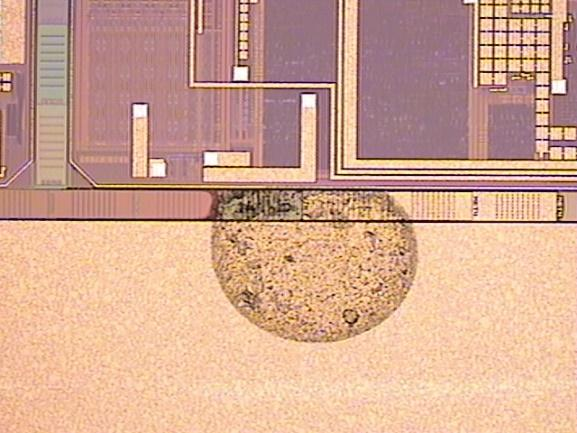PO CONTAMINATION: (194, 108, 420, 344)
